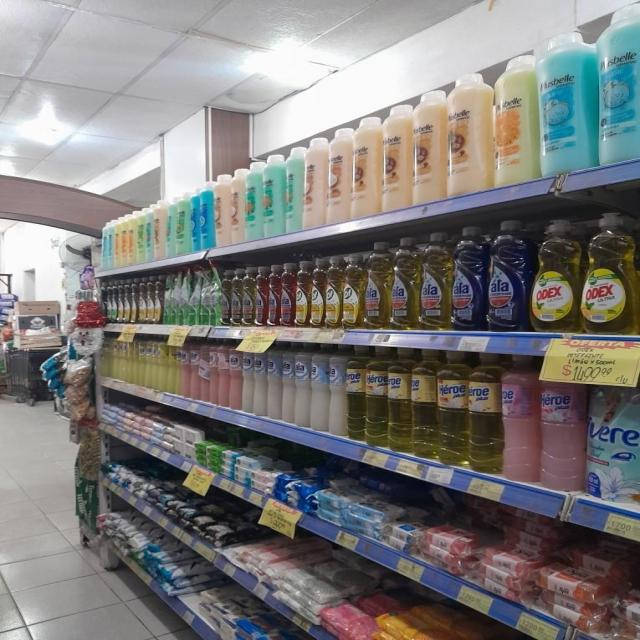ala_conc_amarillo: (421, 231, 451, 331), (392, 237, 420, 330), (364, 240, 390, 330), (231, 268, 243, 326), (243, 267, 254, 327), (220, 268, 230, 326)
ala_conc_azul: (487, 219, 529, 333), (452, 226, 486, 332)
ala_conc_rojo: (281, 262, 295, 328), (267, 263, 280, 327), (255, 265, 267, 327)
ala_crem_amarillo: (168, 337, 178, 396), (156, 336, 166, 392), (145, 336, 155, 389)
ala_crem_blanco: (329, 344, 346, 436), (311, 343, 328, 432), (295, 343, 311, 428), (268, 344, 282, 421), (282, 342, 294, 424), (254, 344, 267, 417), (242, 344, 254, 414)
ala_crem_rosado: (229, 342, 241, 412), (218, 342, 229, 408), (200, 341, 210, 403), (190, 340, 200, 400), (180, 339, 190, 398)
cif_conc_bot_amarilla: (342, 254, 364, 328), (326, 255, 342, 329), (311, 258, 325, 329), (296, 260, 310, 328)
heroe: (540, 359, 585, 492), (502, 354, 538, 483), (468, 352, 501, 474), (438, 349, 468, 467), (411, 347, 436, 460), (388, 345, 410, 451), (365, 345, 387, 447), (347, 344, 365, 442)
odex: (531, 217, 580, 333)
